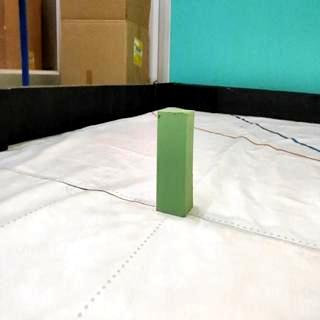greenbox: (155, 108, 196, 218)
